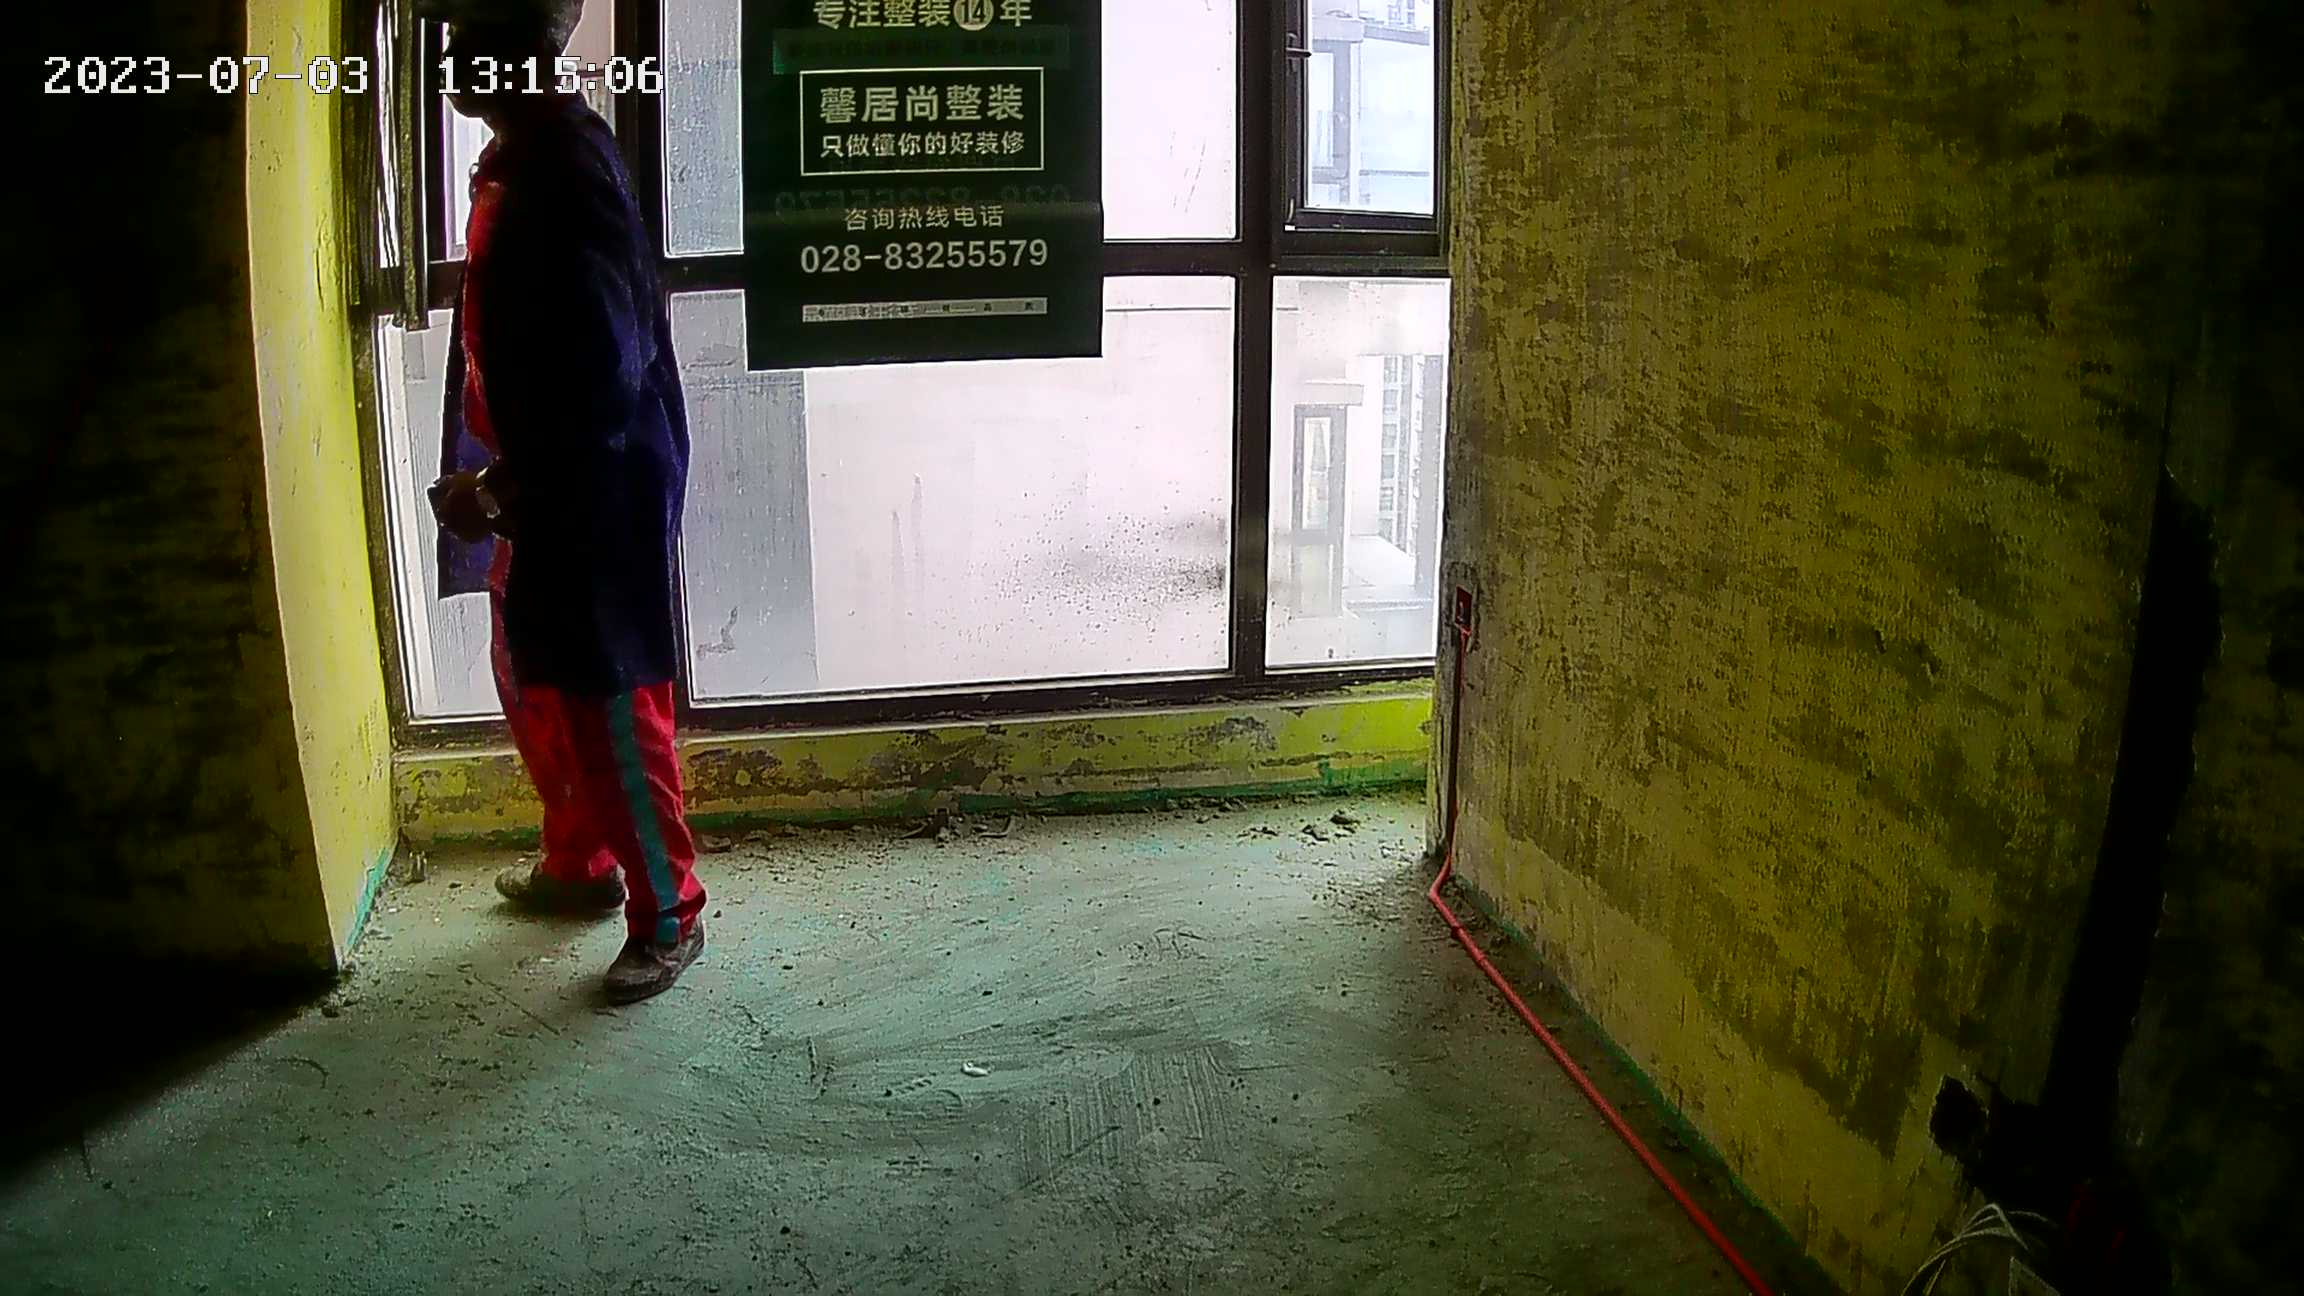people: (425, 1, 712, 1014)
window: (376, 1, 1436, 758)
